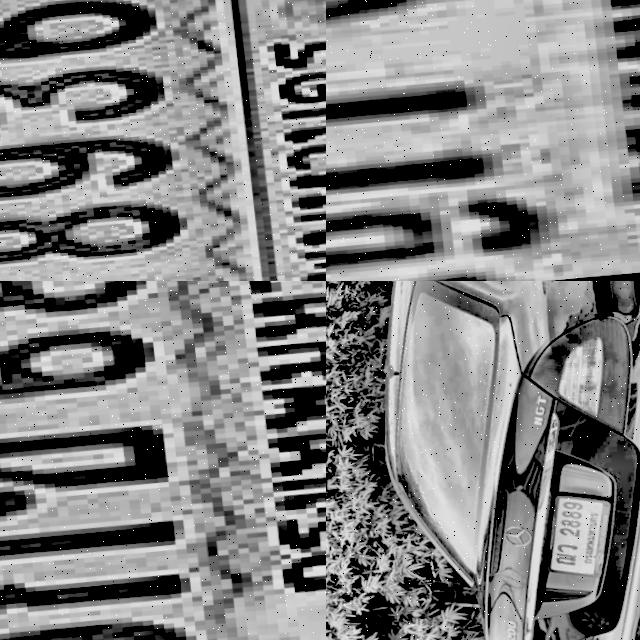license-plate: (0, 281, 326, 640), (0, 0, 326, 281), (326, 0, 640, 281), (527, 483, 622, 583)
